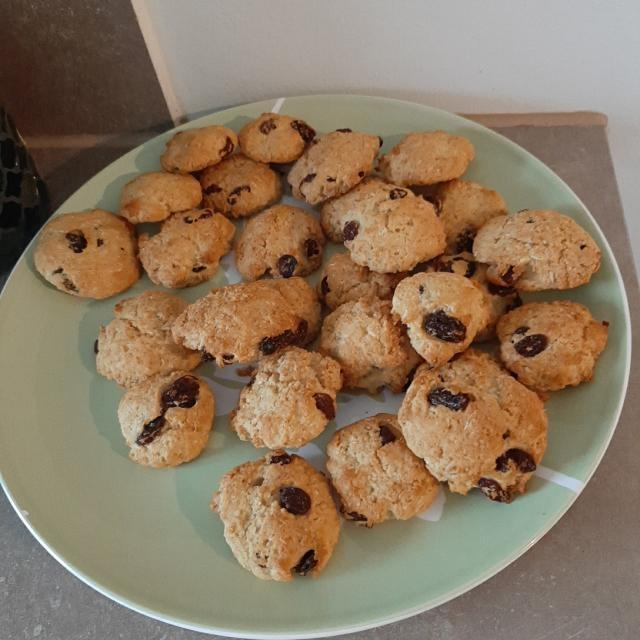cookies: (55, 124, 606, 572)
